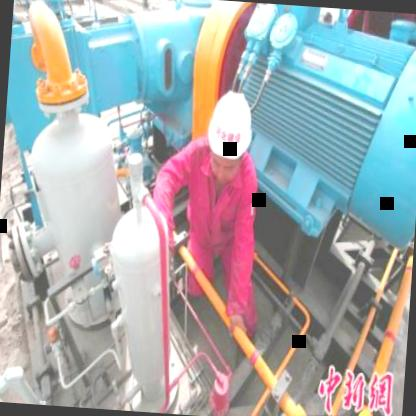helmet: (202, 79, 258, 189)
